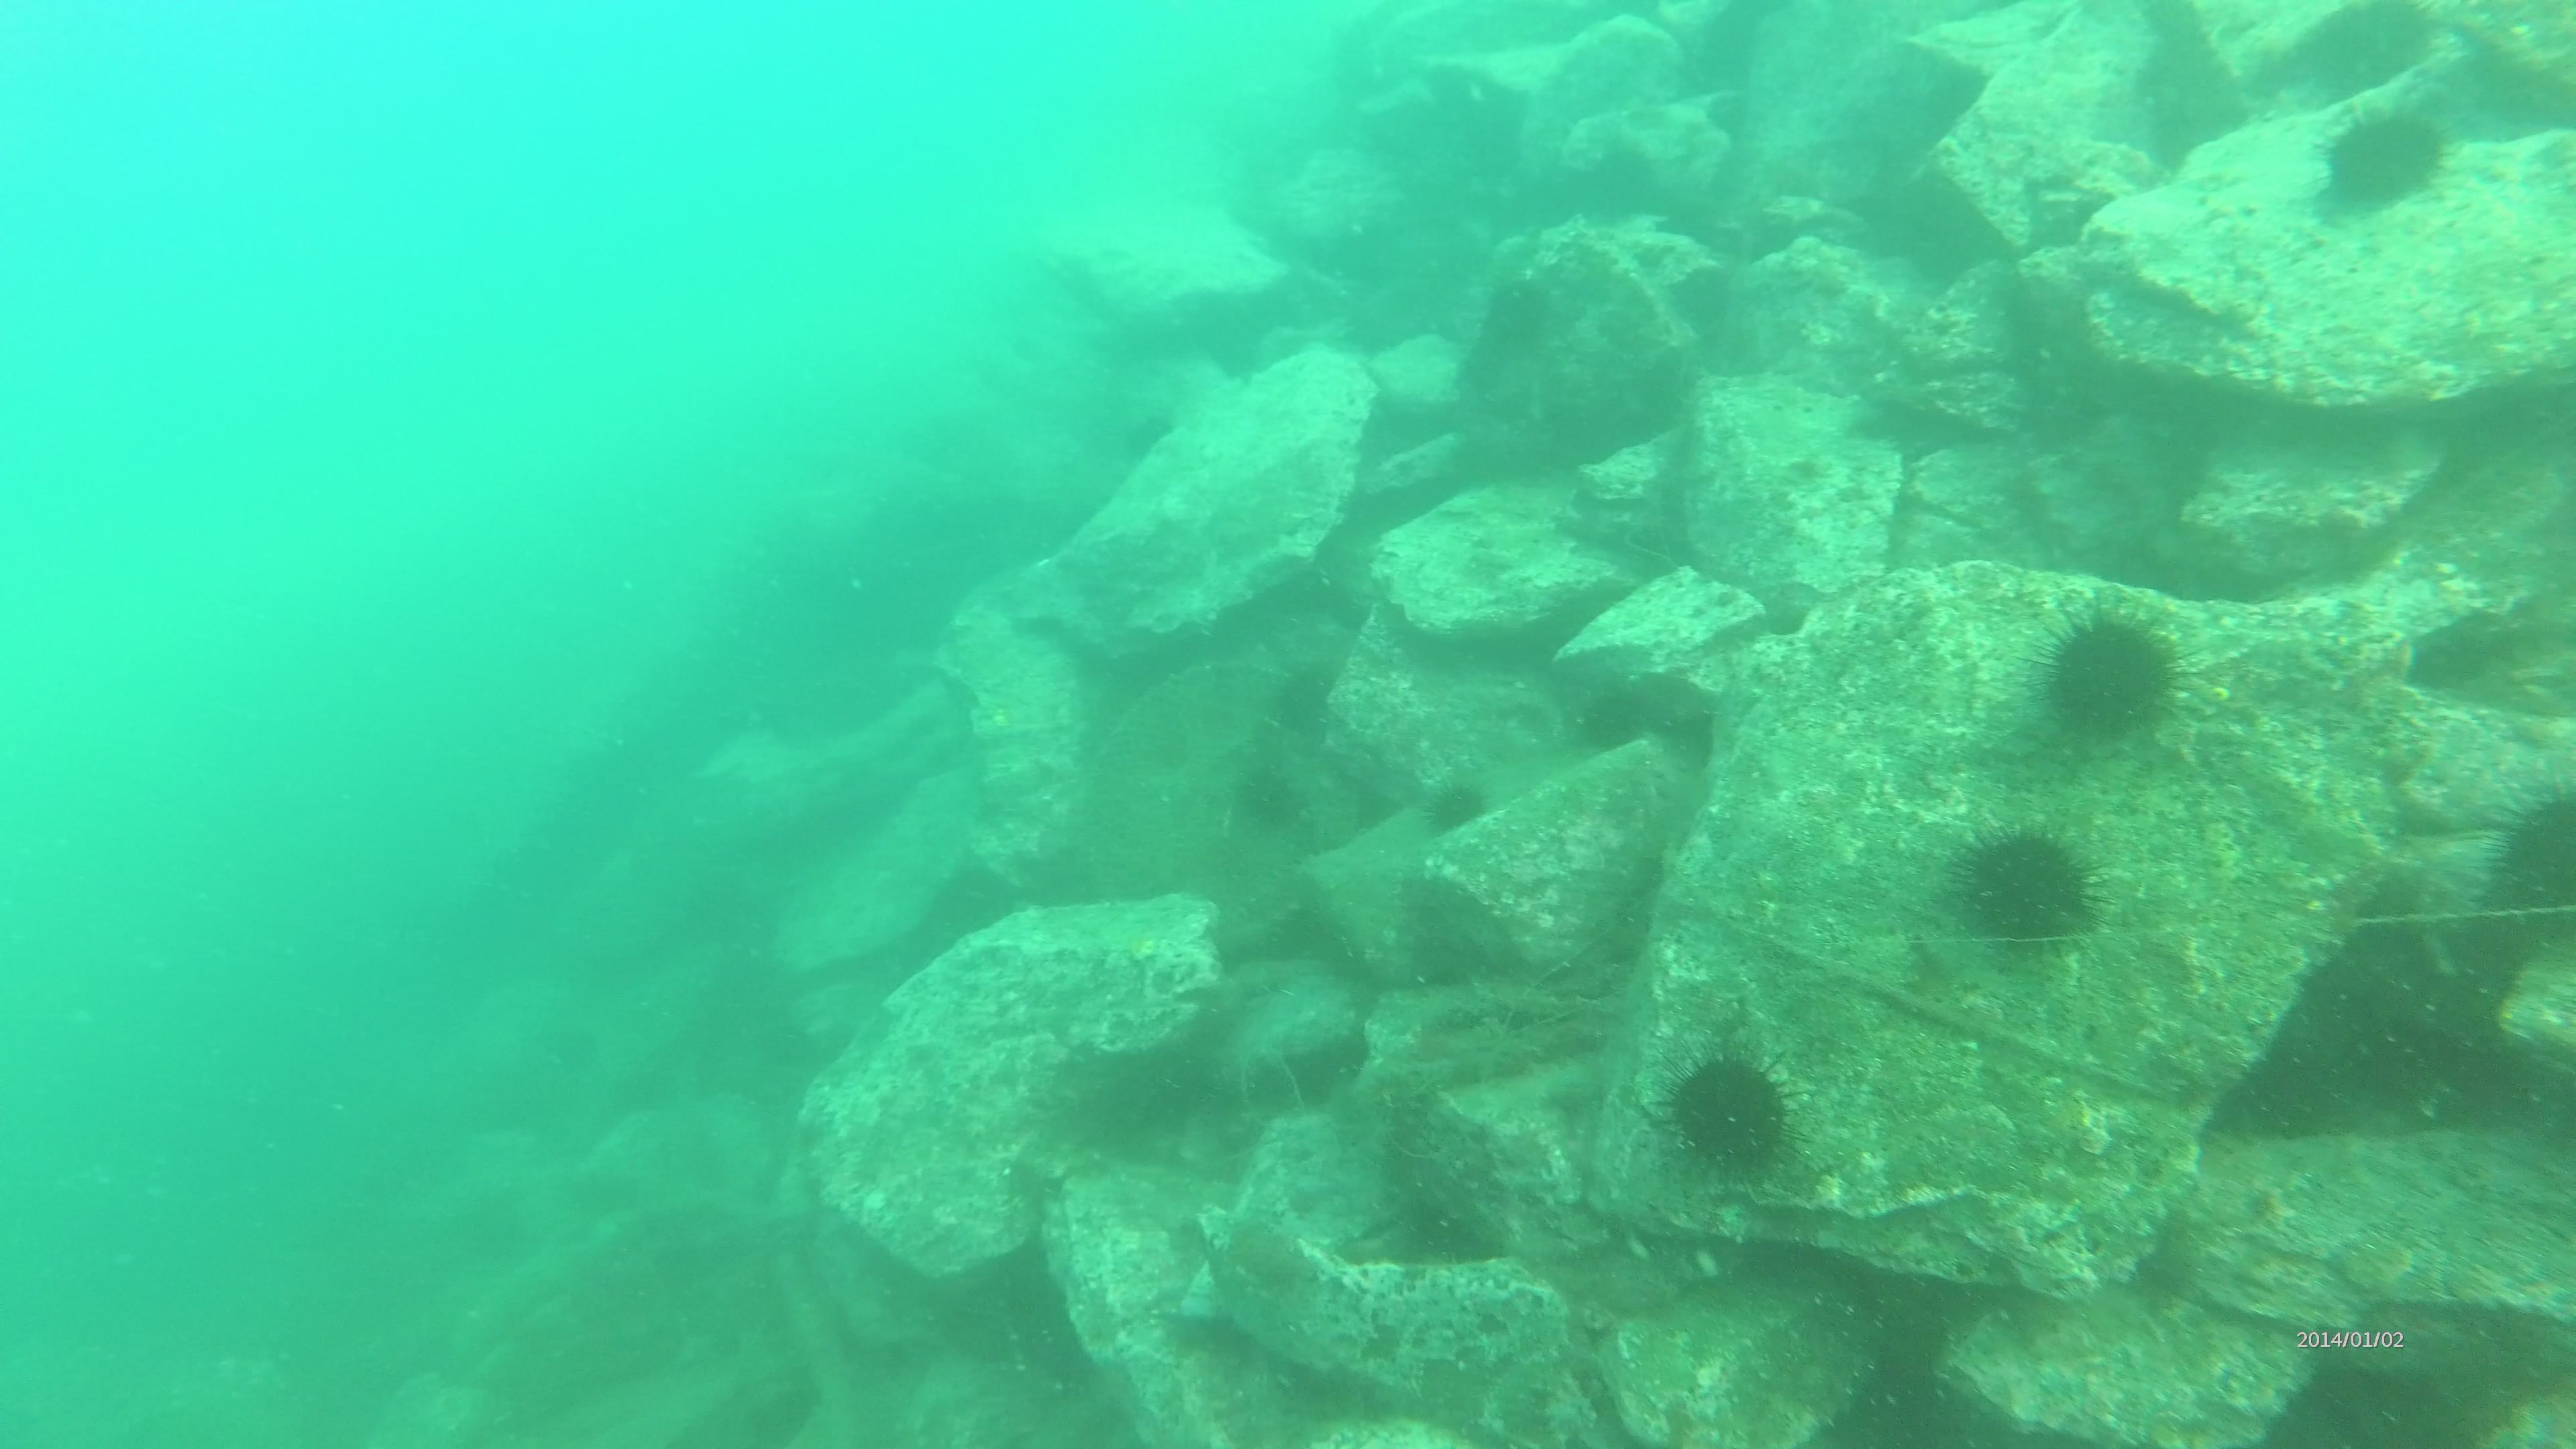echinus: (2024, 586, 2185, 755), (1651, 1039, 1812, 1182), (1943, 826, 2098, 962), (2482, 763, 2576, 948), (2319, 92, 2459, 211), (1258, 655, 1350, 731), (1238, 755, 1313, 837), (1571, 688, 1645, 763), (1431, 777, 1504, 844)
